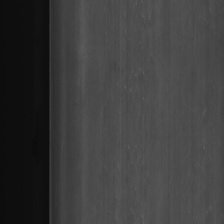silk_spot: (118, 34, 154, 133)
